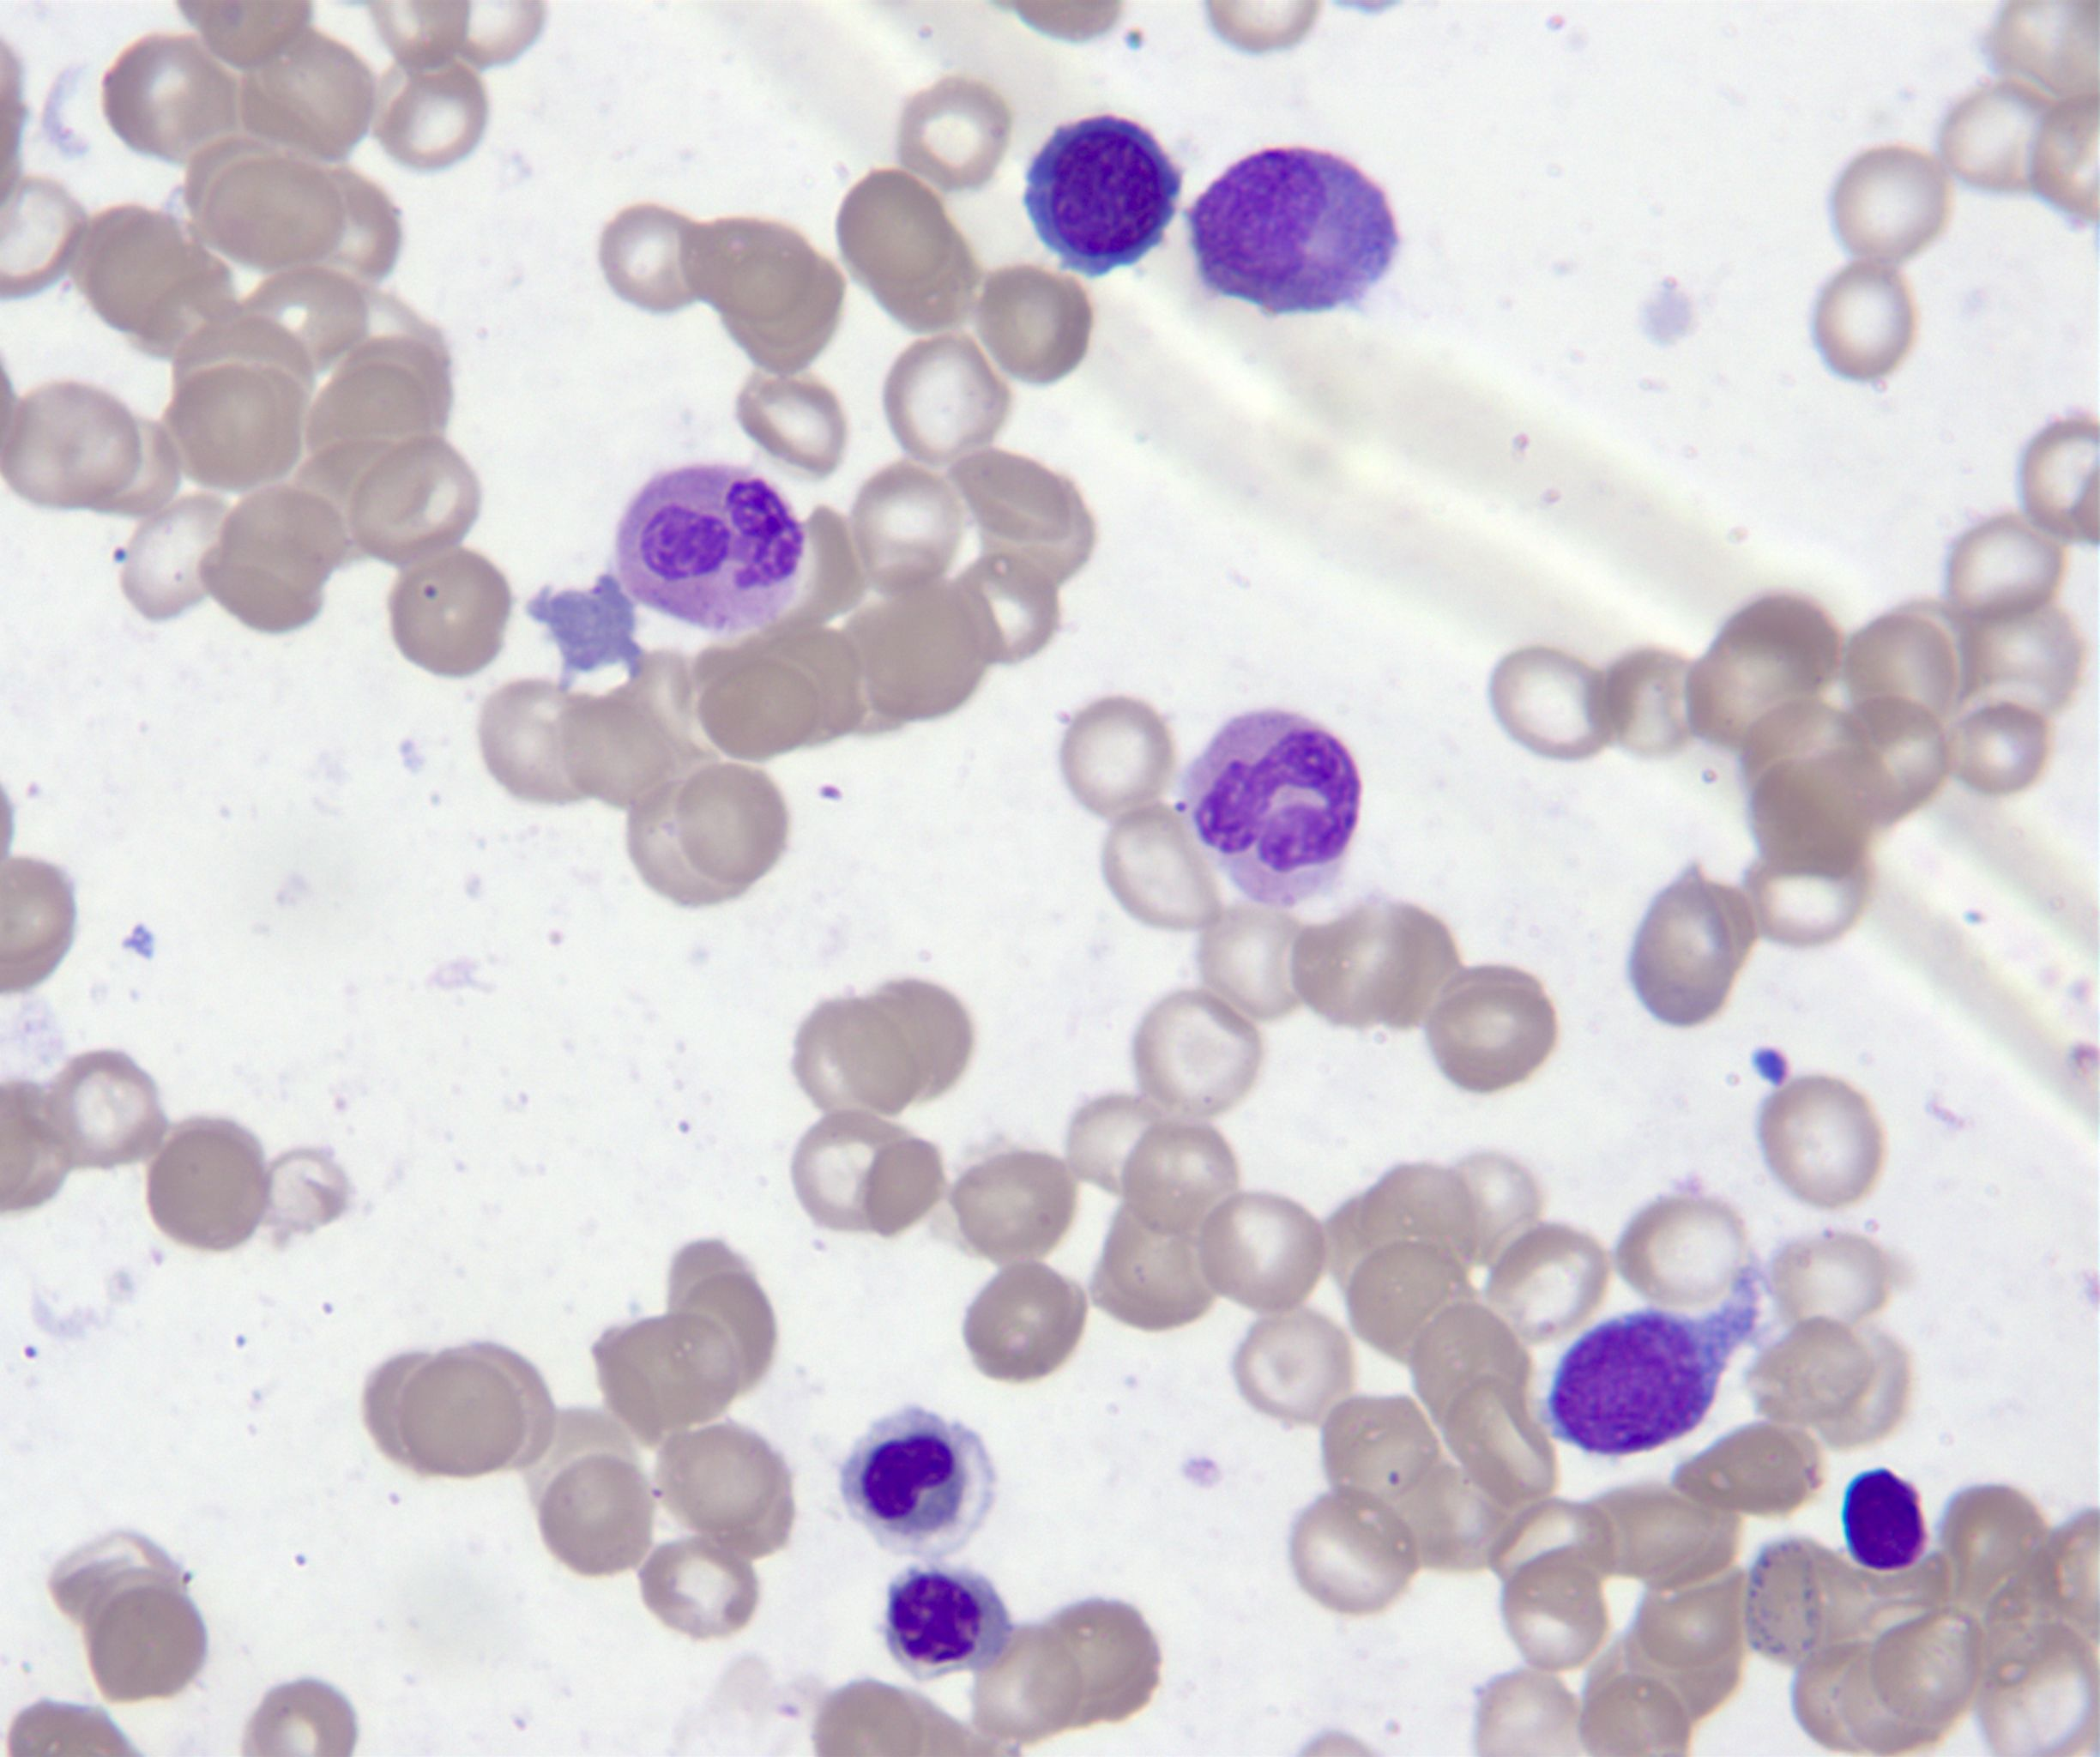23: (1024, 113, 1181, 277)
24: (841, 1405, 994, 1556), (879, 1562, 1008, 1680)
3: (1190, 148, 1399, 319)
42: (1531, 1263, 1758, 1455)
5: (1183, 710, 1362, 906)
6: (616, 466, 804, 632)
x: (1844, 1467, 1927, 1572)
